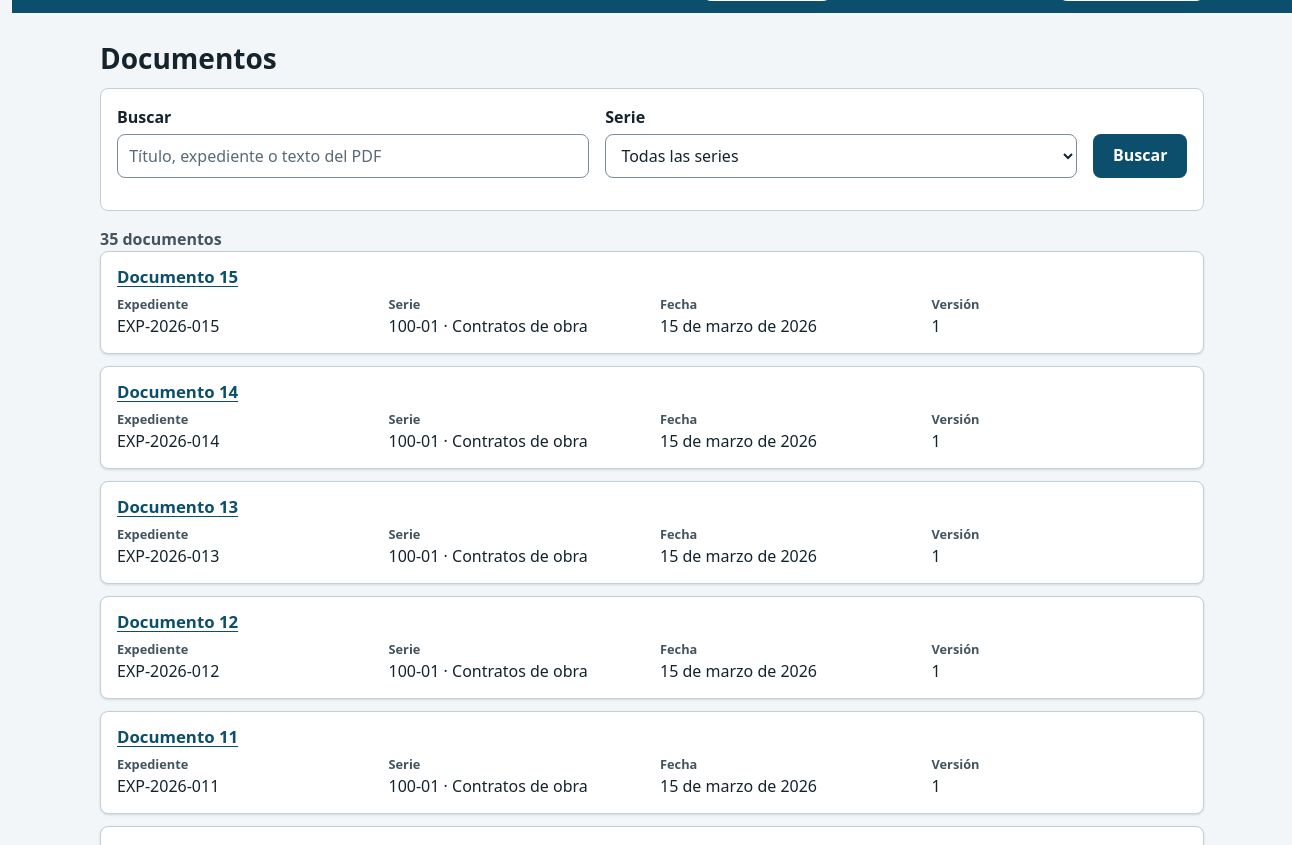
it: listado de documentos › búsqueda › buscar vuelve a la página 1 aunque se estuviera en otra
Type "acta" into the search field labelled "Buscar" at coordinates (353, 156), box [117,134,589,178]
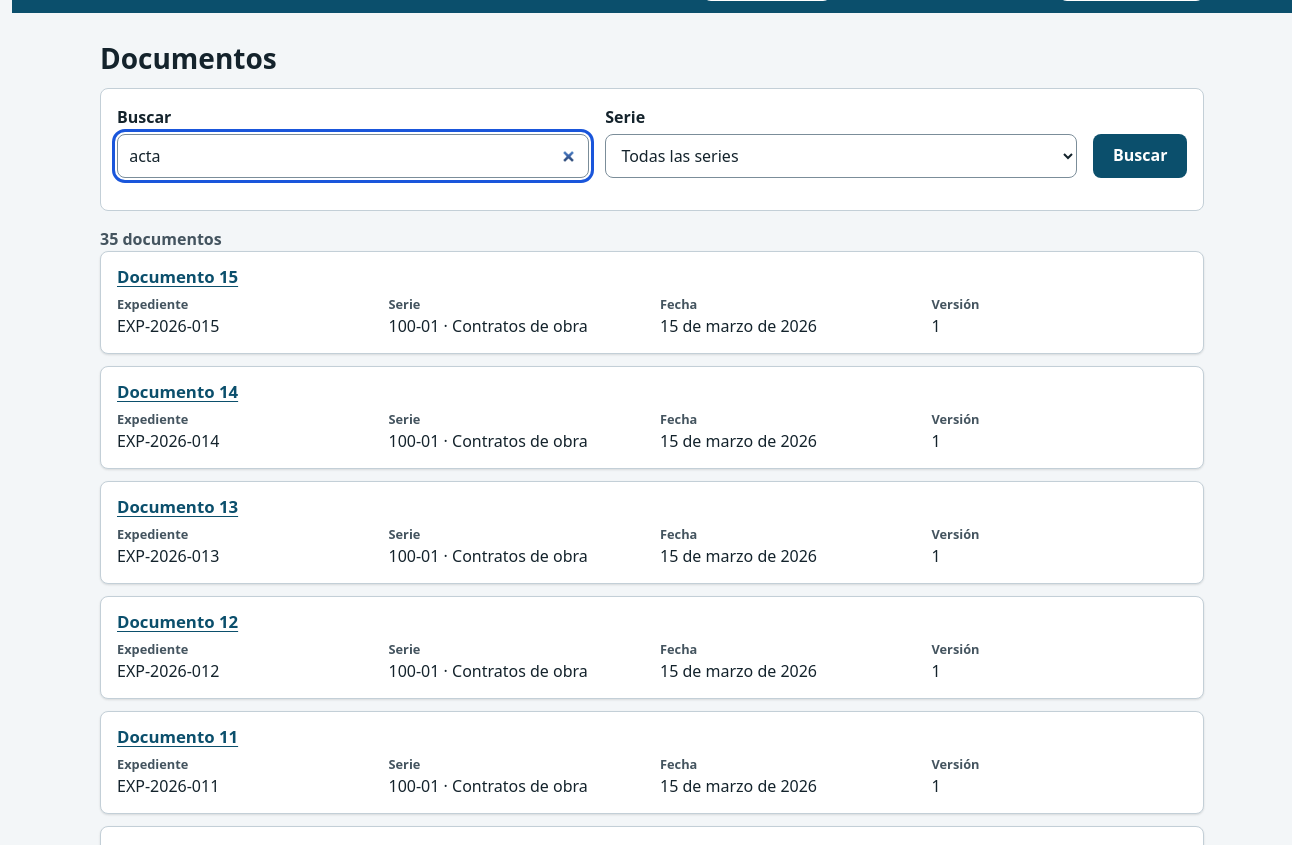
Click the button "Buscar" at coordinates (1140, 156), box [1093,134,1187,178]
(page scrolled)
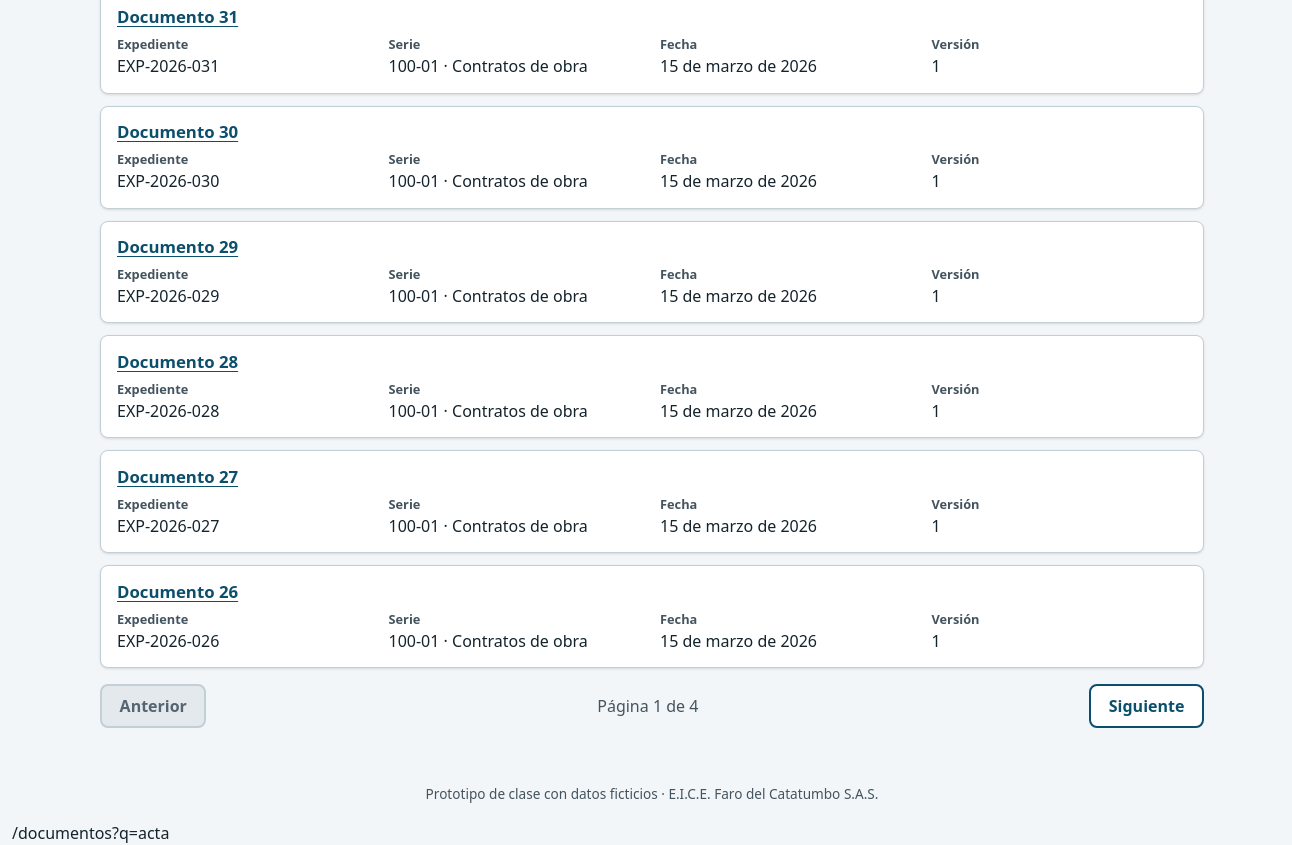
Check: the text with test id "ubicacion" reads "/documentos?q=acta", box [12,822,169,844]
